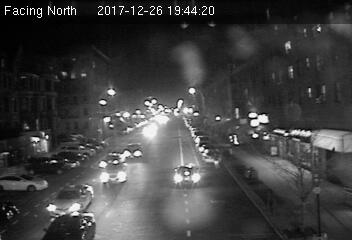car: (46, 182, 95, 216), (101, 161, 127, 184), (173, 164, 201, 185), (122, 144, 145, 160), (99, 152, 122, 168), (203, 149, 220, 162)
